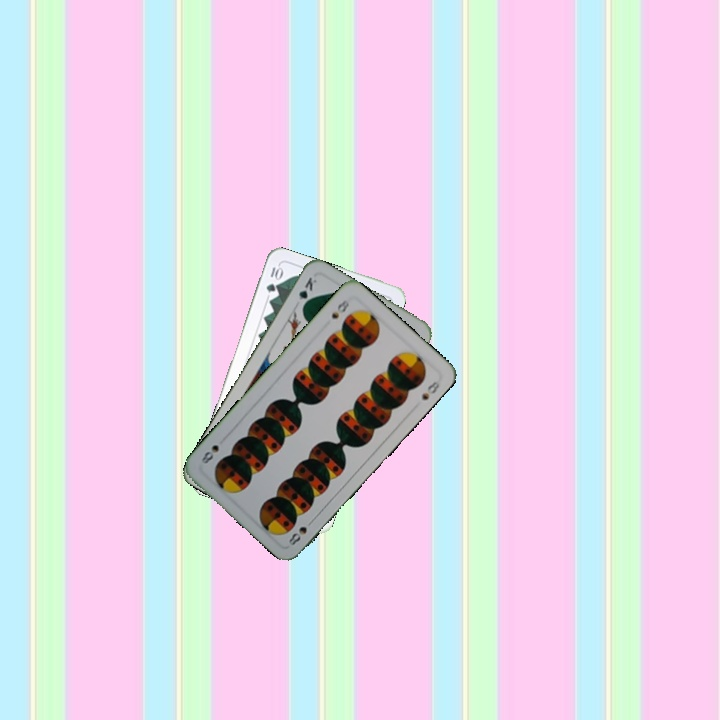G10: (262, 261, 284, 295)
GK: (291, 273, 319, 312)
S8: (284, 514, 317, 548), (327, 295, 353, 321)
